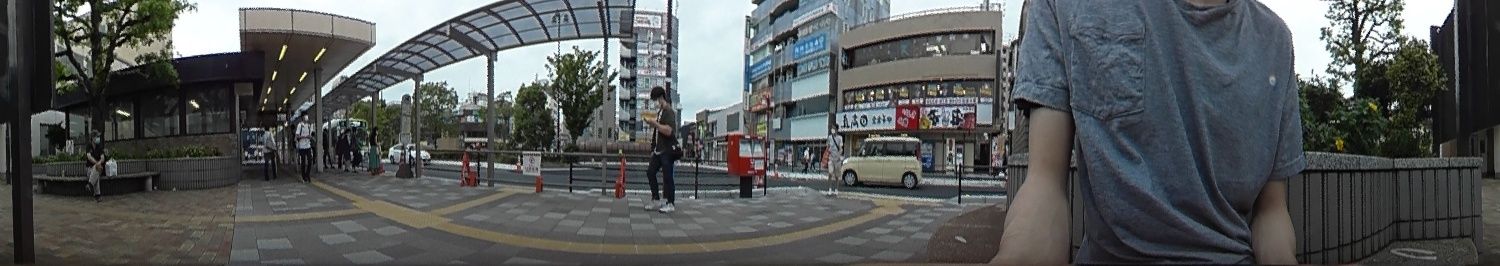difficult_person: (260, 124, 277, 180), (299, 111, 311, 184), (367, 127, 382, 174), (349, 129, 360, 169), (338, 129, 349, 166)
person: (644, 85, 678, 214), (825, 122, 845, 195), (83, 130, 104, 197), (367, 127, 382, 174)
